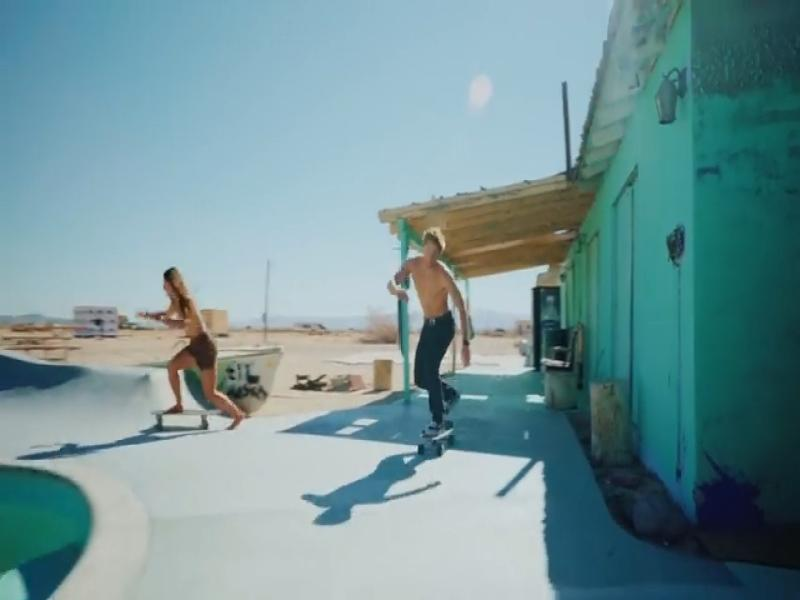person: (388, 227, 470, 440), (150, 267, 244, 428)
skate: (153, 409, 222, 432), (417, 423, 453, 458)
